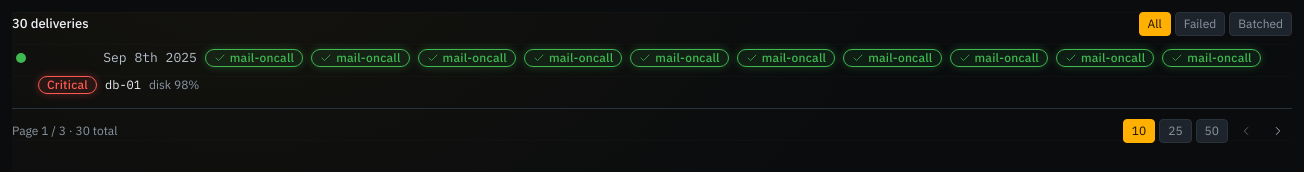
Test case: DeliveryTimeline › clamps an out-of-range page back onto the last page
Expected: the text "Page 1 / 3 · 30 total" is shown, [12,122,118,140]
Click the button named "Next page". click: (1278, 131)
box: [1264,117,1292,145]
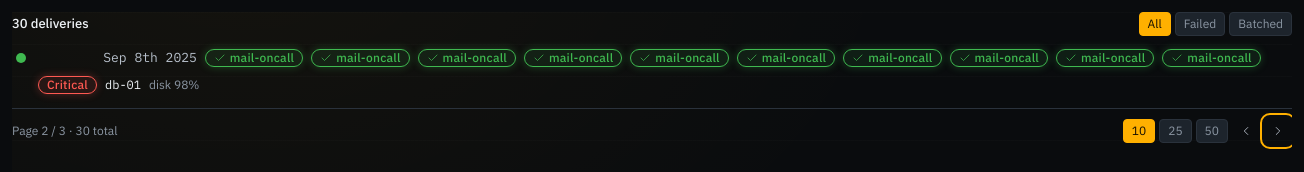
Click the button named "Next page". click: (1278, 131)
box: [1264,117,1292,145]
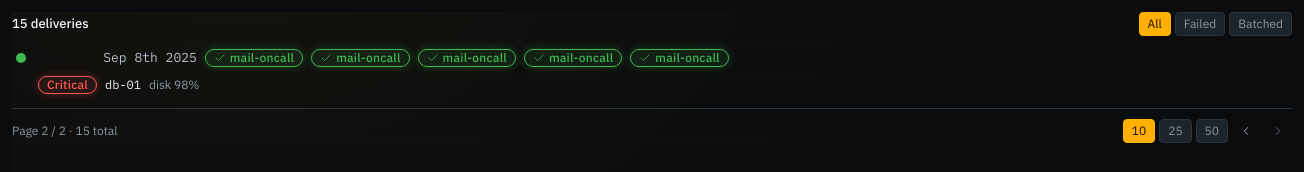
Result: the text "Page 2 / 2 · 15 total" is shown at [12,122,118,140]
